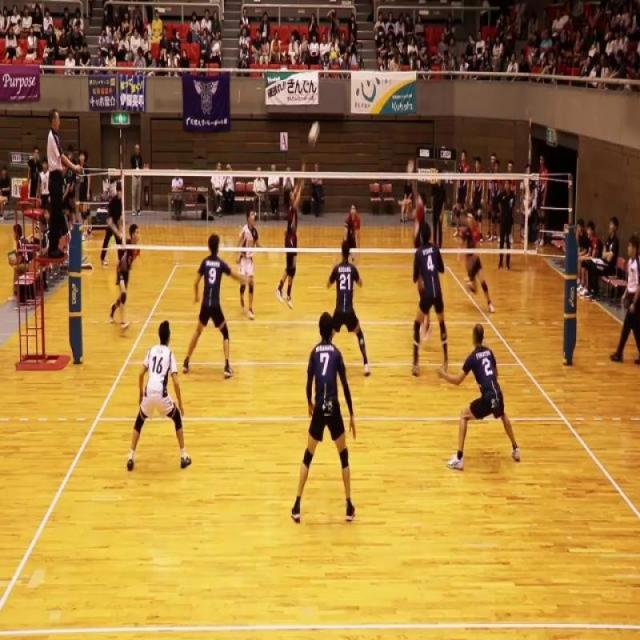volleyball: (308, 119, 320, 149)
